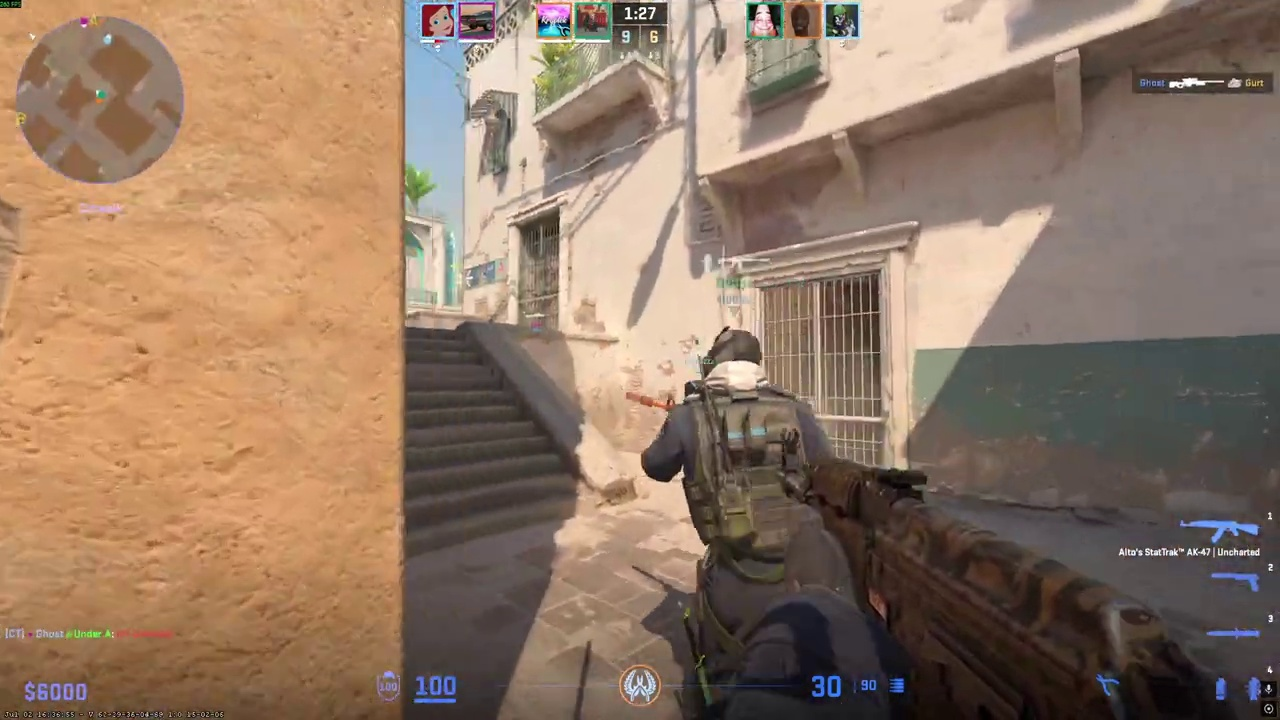CT: (655, 326, 829, 720)
